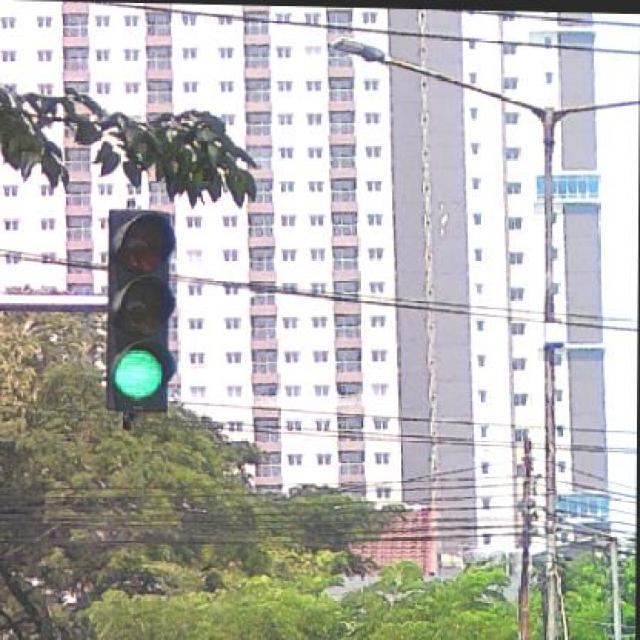traffic light: (106, 209, 177, 414)
